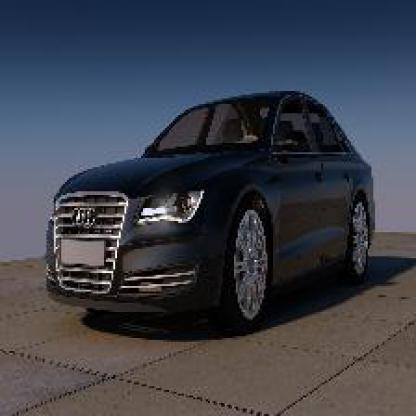not_emergency: (35, 85, 384, 338)
